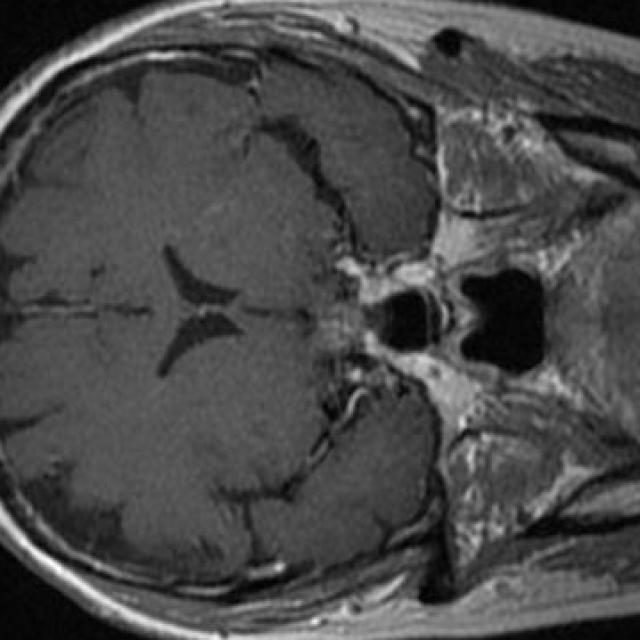pituitary: (308, 301, 364, 351)
